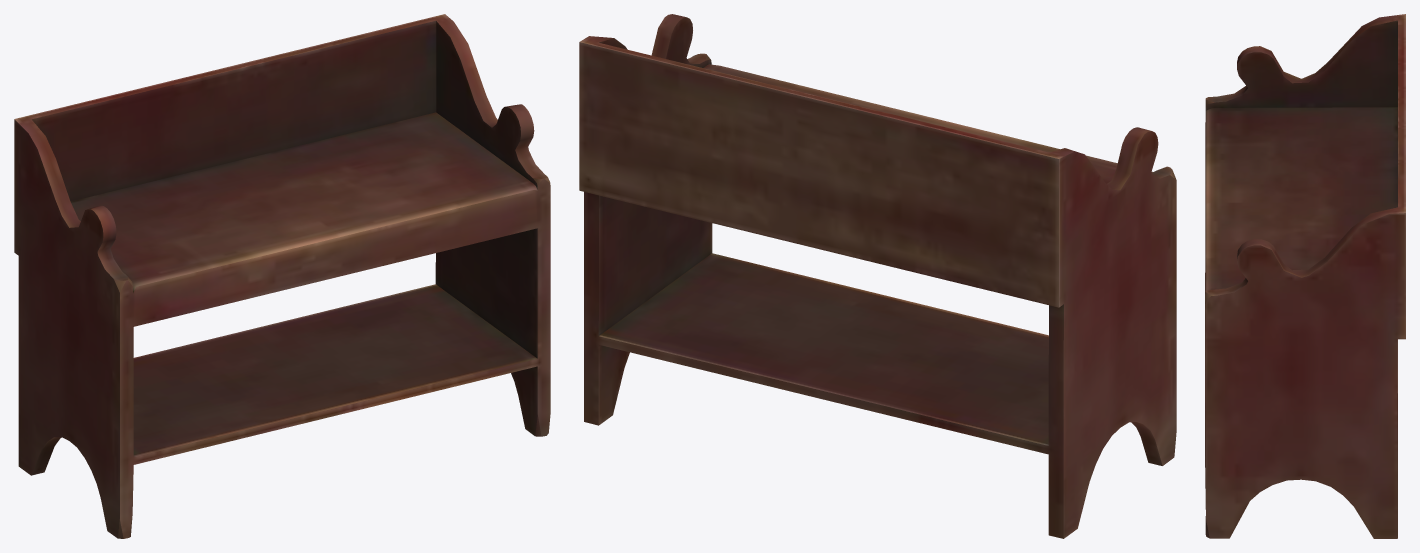
File: p_painted_wooden_bench.glb
3 views of the same model, side by side, from view 1: azimuth 30°, elevation 25°; view 2: azimuth 150°, elevation 25°; view 3: azimuth 270°, elevation 25° (orthographic). The views are drawn at different scales.
Parts seen in each view (by area): view 1: painted_wooden_bench; view 2: painted_wooden_bench; view 3: painted_wooden_bench.
Part boxes in pixels (box(x1,y1,x2,y2)): painted_wooden_bench: box(14, 14, 550, 538); painted_wooden_bench: box(579, 14, 1176, 538); painted_wooden_bench: box(1205, 14, 1405, 538).
Bounding box in the file's own units: 1.16 × 0.8893 × 0.4965.
Materials: 1 (1 with a texture image).
